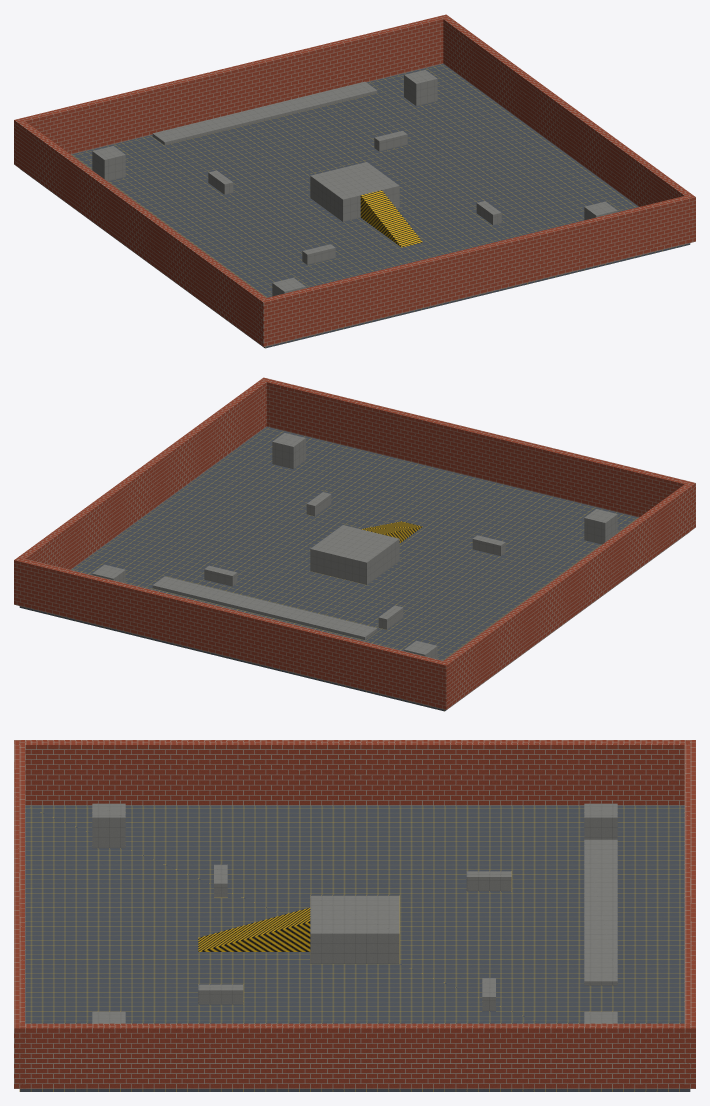
Rendered from sample_arena.glb.
3 views of the same model, one above another, from view 1: azimuth 30°, elevation 25°; view 2: azimuth 150°, elevation 25°; view 3: azimuth 270°, elevation 25° (orthographic). The views are drawn at different scales.
Visible parts, largest first — view 1: Floor, Wall0, Wall1, Wall2, Wall3, Bridge, Tower, Ramp, Cover5, Cover6; view 2: Floor, Wall1, Wall0, Wall2, Wall3, Tower, Bridge, Cover7, Cover4, Ramp; view 3: Floor, Wall3, Wall2, Tower, Bridge, Wall1, Wall0, Ramp, Cover4, Cover6, Cover2, Cover3.
Boxes of the visible parts, bbox=[...] form: Floor: bbox=[20, 63, 690, 348]; Wall0: bbox=[259, 194, 695, 346]; Wall1: bbox=[14, 14, 449, 166]; Wall2: bbox=[16, 121, 265, 343]; Wall3: bbox=[442, 16, 691, 206]; Bridge: bbox=[152, 81, 377, 145]; Tower: bbox=[310, 162, 399, 221]; Ramp: bbox=[360, 190, 422, 247]; Cover5: bbox=[404, 70, 437, 105]; Cover6: bbox=[92, 146, 125, 181]; Floor: bbox=[19, 426, 689, 711]; Wall1: bbox=[14, 557, 450, 709]; Wall0: bbox=[260, 377, 695, 529]; Wall2: bbox=[444, 484, 693, 706]; Wall3: bbox=[18, 379, 267, 569]; Tower: bbox=[310, 525, 399, 584]; Bridge: bbox=[152, 576, 377, 639]; Cover7: bbox=[272, 433, 305, 468]; Cover4: bbox=[584, 509, 617, 544]; Ramp: bbox=[361, 521, 422, 543]; Floor: bbox=[19, 805, 690, 1091]; Wall3: bbox=[19, 1023, 690, 1088]; Wall2: bbox=[20, 740, 689, 805]; Tower: bbox=[310, 895, 399, 963]; Bridge: bbox=[584, 839, 617, 985]; Wall1: bbox=[684, 740, 695, 1088]; Wall0: bbox=[14, 740, 25, 1088]; Ramp: bbox=[198, 907, 310, 951]; Cover4: bbox=[92, 803, 125, 848]; Cover6: bbox=[584, 803, 617, 839]; Cover2: bbox=[466, 871, 511, 891]; Cover3: bbox=[198, 984, 243, 1004].
Bounding box in the file's own units: 61 × 6.5 × 61.
Materials: 4 (4 with a texture image).
